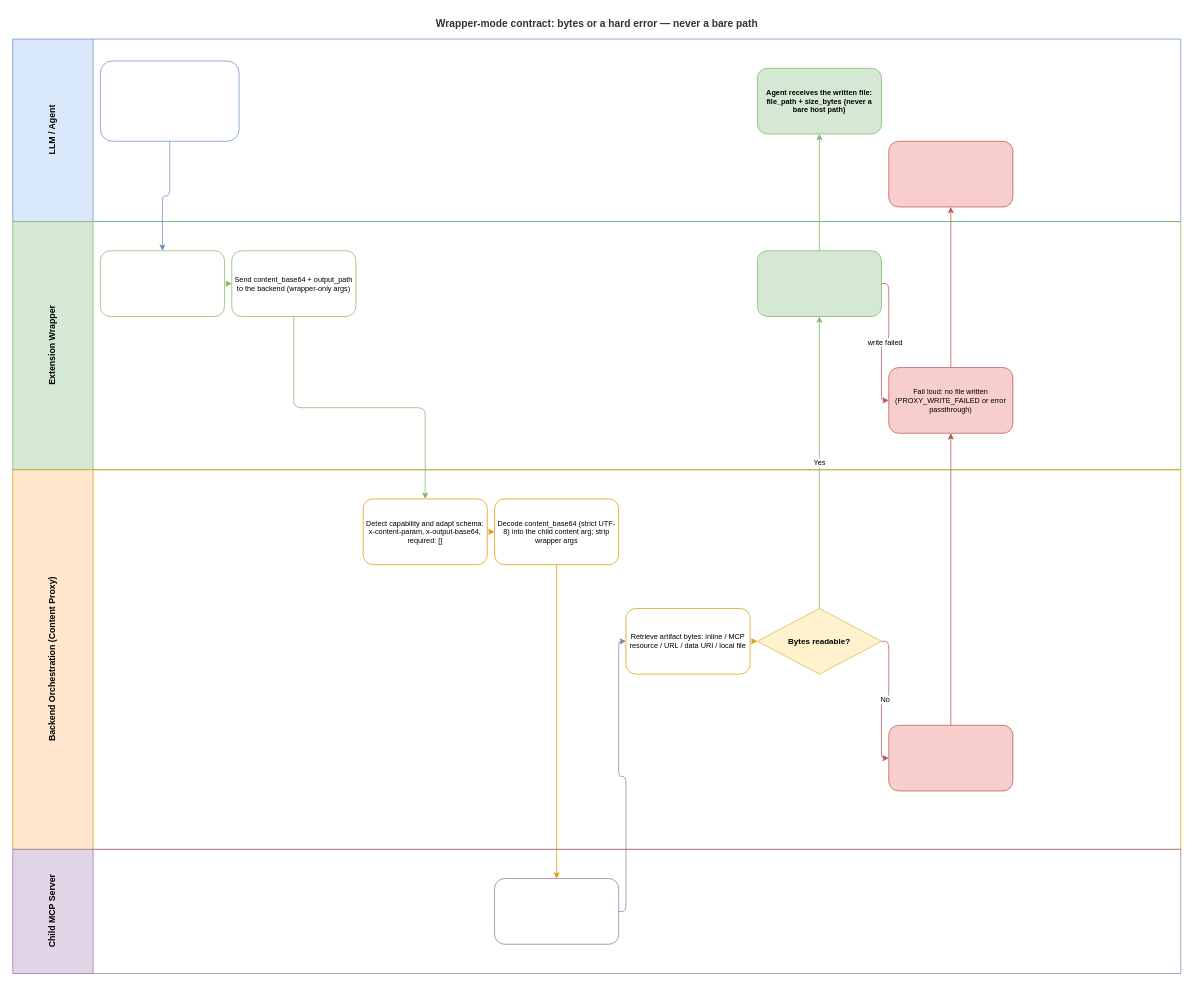
The diagram is 1194 pixels wide and 986 high, and some of its shapes have lost their labels. Each missing label, with the centre of its shape:
"Agent calls execute_dynamic_tool(toolName=export_*, file_path, output_path)" goes at point (169, 100).
"Agent receives a hard error and knows no file was written" goes at point (950, 174).
"Child exporter writes the artifact on its own host and returns artifacts[].path" goes at point (556, 911).
"Resolve file_path and read file bytes (workspace path guard)" goes at point (162, 283).
"Return isError ARTIFACT_FETCH_FAILED (host path stripped)" goes at point (950, 758).
"Write every artifact to output_path and verify the written count" goes at point (819, 283).
